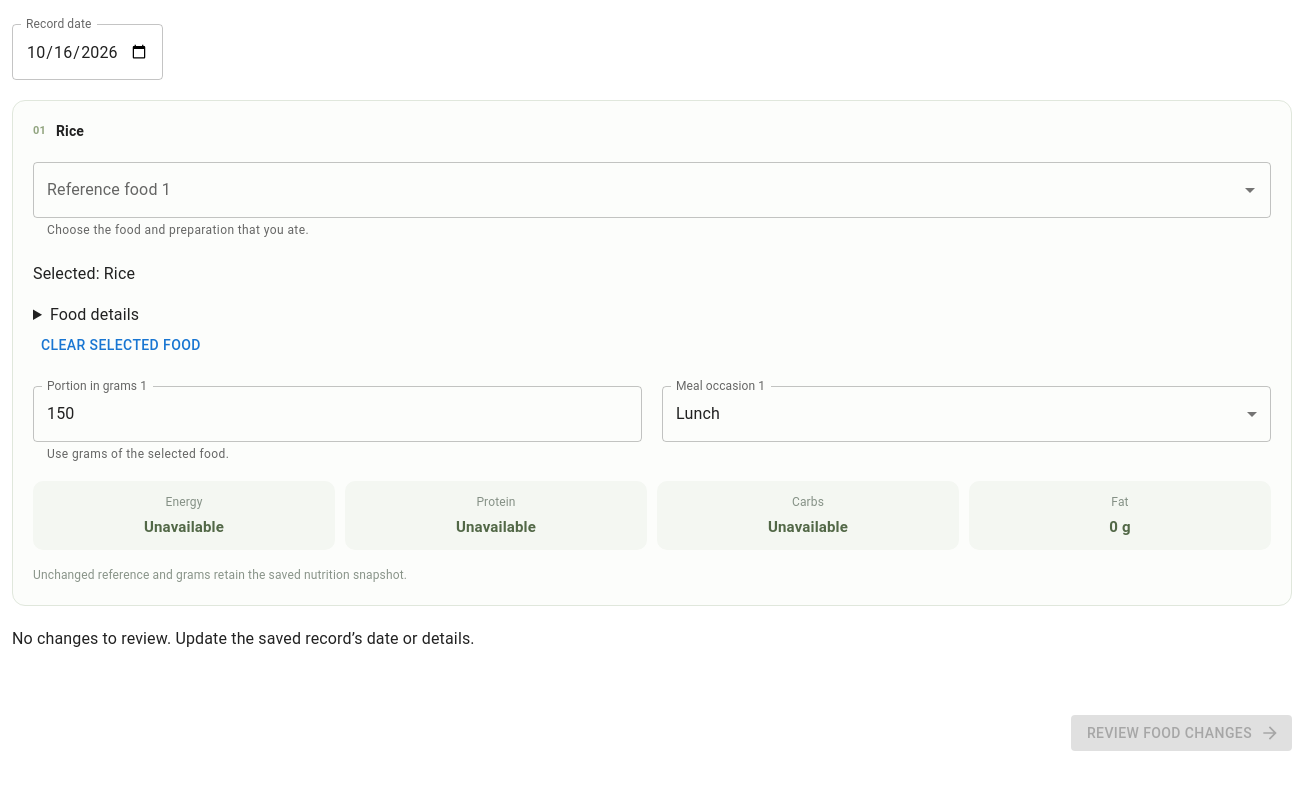
Test: F13 correction editors preserve saved snapshots › requires a new owned preview after food grams change
Replace the text in the field labelled "Portion in grams 1" with "200". click: (338, 414)
box: [33,386,642,442]
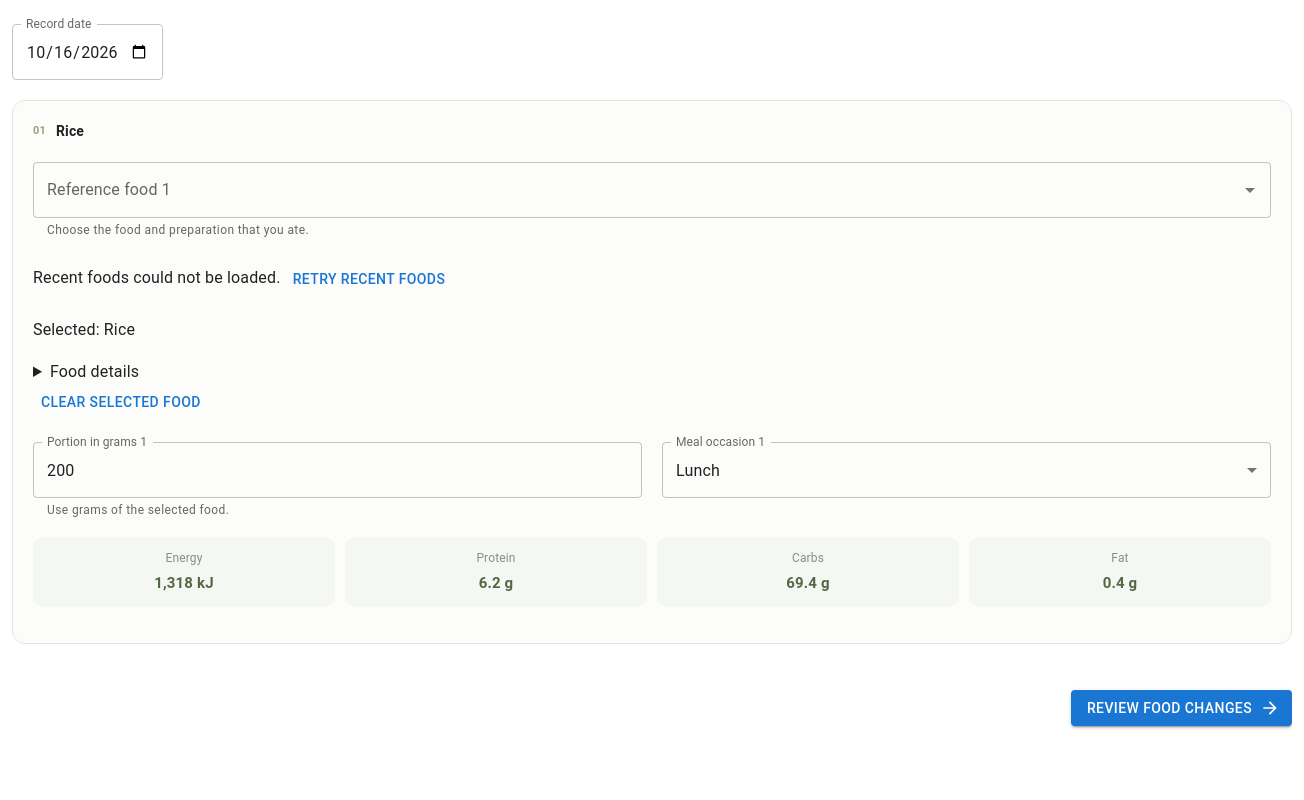
Result: the button "Review food changes" is enabled at [1071,690,1292,726]
